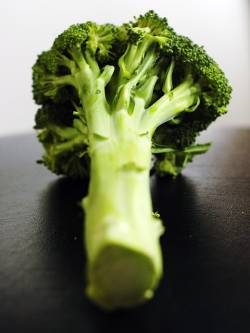broccoli: (27, 5, 236, 310)
